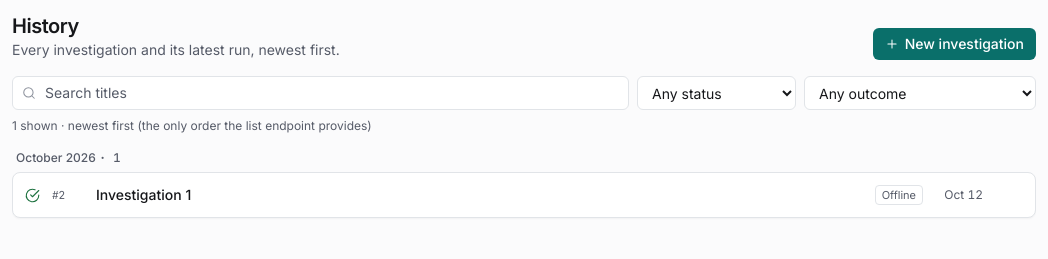
Test: the verified filter says that replay rows match it by their stored outcome
Check: the link "Investigation 1" is shown, box [96,186,191,203]
Check: the text "match this filter by their stored outcome" is not shown
Select "verified recommendation" in the dropdown named "Outcome" at (920, 93), box [804,76,1036,110]
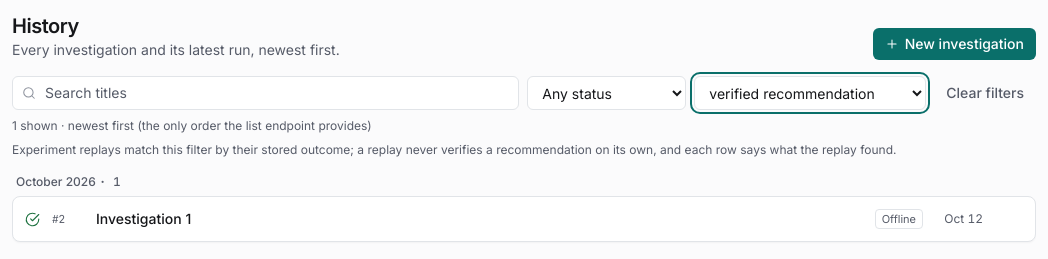
Check: the text "match this filter by their stored outcome" is shown, box [12,142,896,157]
